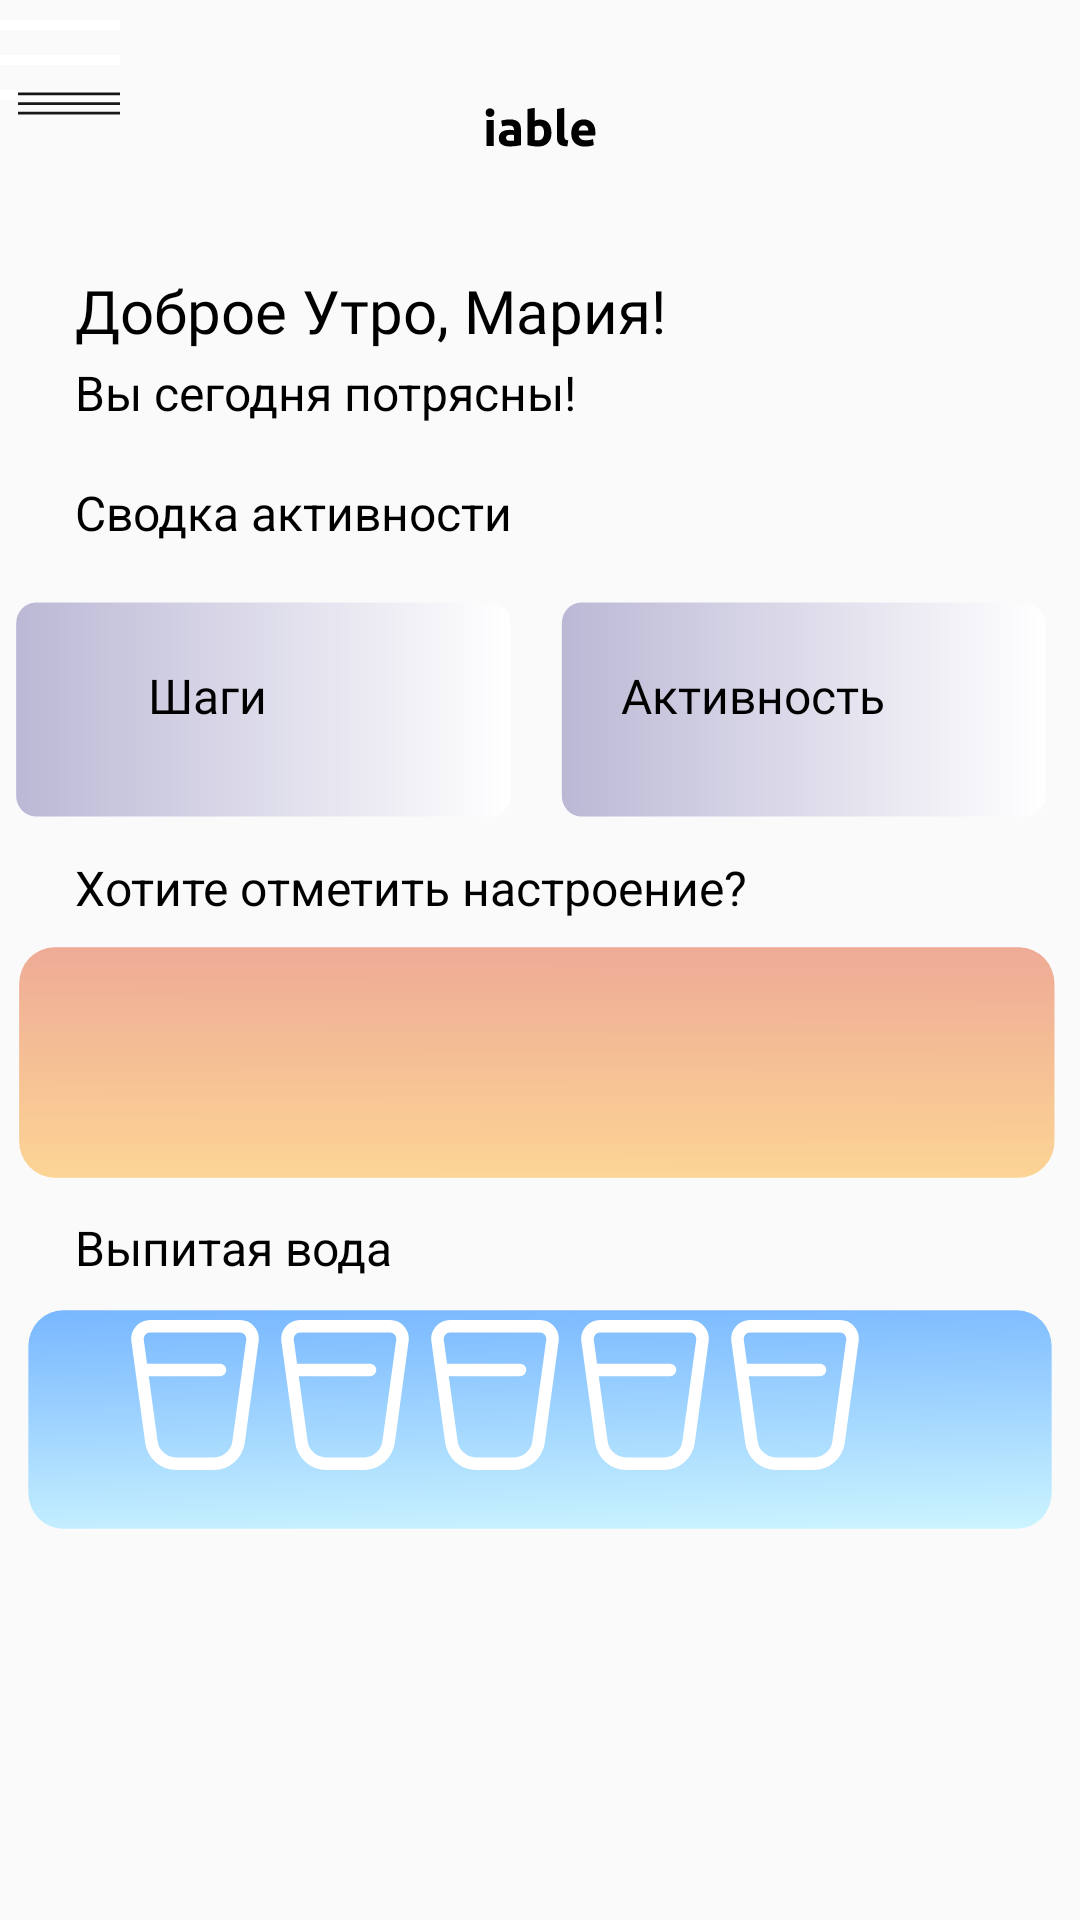

Named icons in this screenshot (1080w x 1920h) and their centers, [x,y]:
water: [195,1395], [345,1395], [495,1395], [645,1395], [795,1395]
